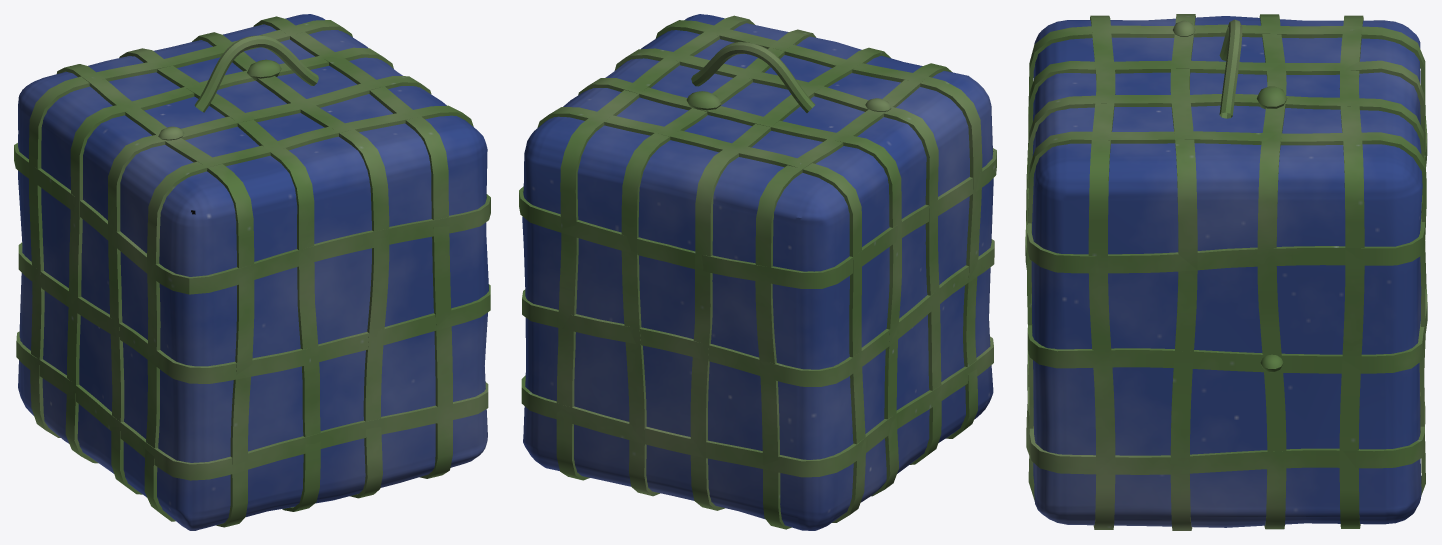
Rendered from DemolitionCharge.fbx.
The picture shows the model from 3 angles, left to right: view 1: azimuth 30°, elevation 25°; view 2: azimuth 150°, elevation 25°; view 3: azimuth 270°, elevation 25°; orthographic projection. The views are drawn at different scales.
Parts seen in each view (by area): view 1: DemolitionCharge; view 2: DemolitionCharge; view 3: DemolitionCharge.
Boxes of the visible parts, <box> form: DemolitionCharge: <box>14,14,490,530</box>; DemolitionCharge: <box>519,14,996,530</box>; DemolitionCharge: <box>1025,14,1427,530</box>.
Size of the model in its own units: 0.2165 by 0.2537 by 0.2105.
1 material, 1 textured.
